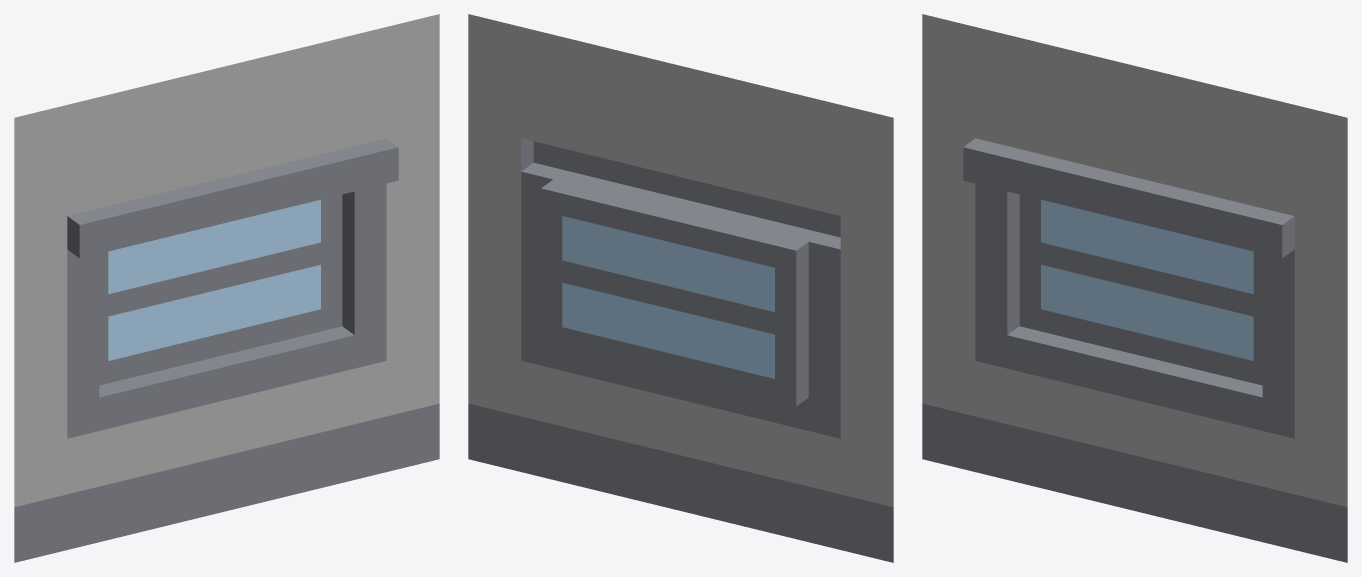
The model's file is wall_windowD.fbx.
3 views of the same model, side by side, from view 1: azimuth 30°, elevation 25°; view 2: azimuth 150°, elevation 25°; view 3: azimuth 330°, elevation 25° (orthographic).
Visible parts, largest first — view 1: wall_windowD; view 2: wall_windowD; view 3: wall_windowD.
Part boxes in pixels (box(x1,y1,x2,y2)): wall_windowD: box(14, 14, 439, 562); wall_windowD: box(468, 14, 893, 562); wall_windowD: box(922, 14, 1347, 562).
Size of the model in its own units: 4 by 4 by 0.4.
